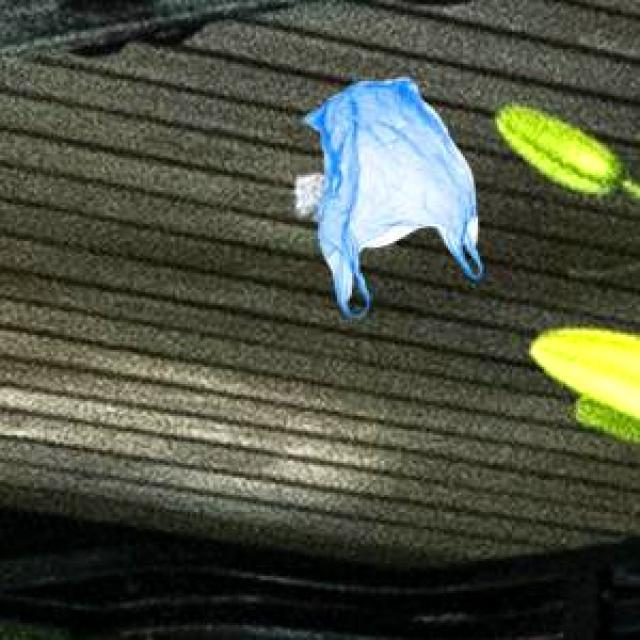Plastic_Bag: (300, 75, 479, 312)
